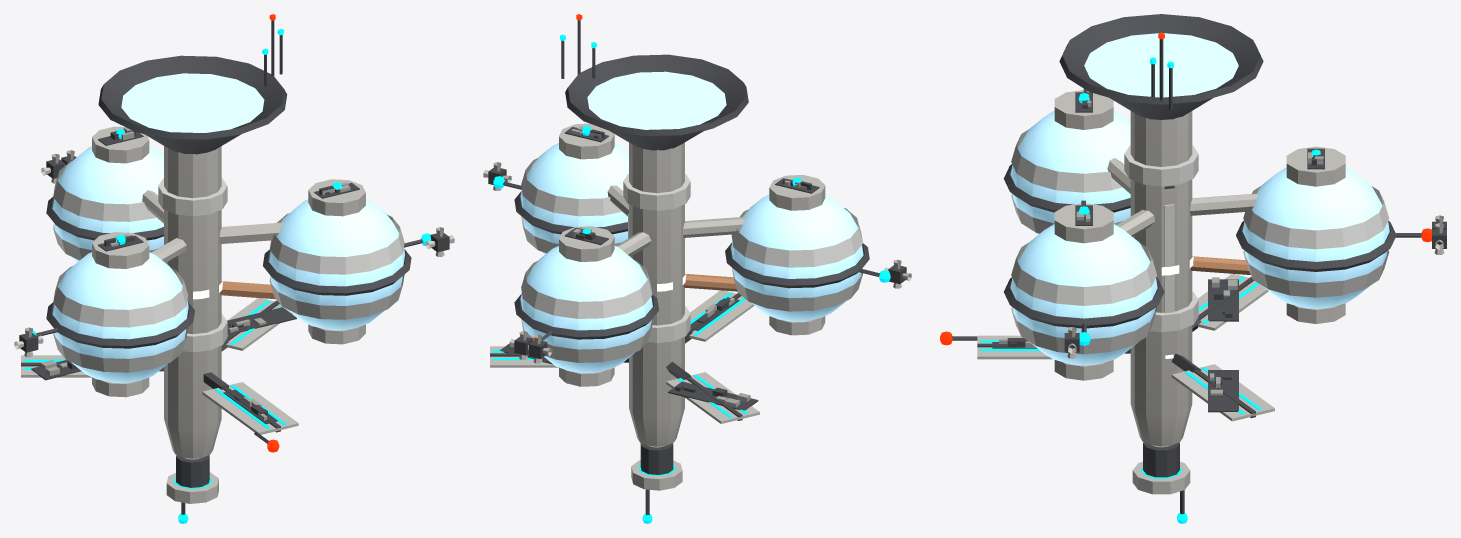
Rendered from water_plant.glb.
The picture shows the model from 3 angles, left to right: view 1: azimuth 30°, elevation 25°; view 2: azimuth 150°, elevation 25°; view 3: azimuth 270°, elevation 25°; orthographic projection. The views are drawn at different scales.
Parts seen in each view (by area): view 1: water_plant; view 2: water_plant; view 3: water_plant.
Part boxes in pixels (<box>): water_plant: <box>14,14,454,523</box>; water_plant: <box>483,14,911,523</box>; water_plant: <box>940,14,1446,523</box>.
Size of the model in its own units: 1.81 by 1.98 by 1.7.
